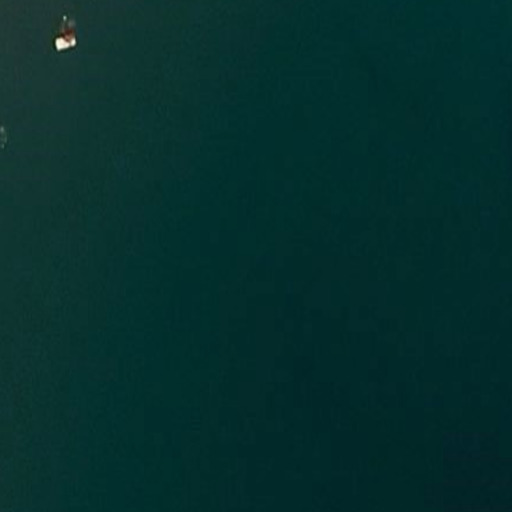ship: (52, 28, 78, 55)
